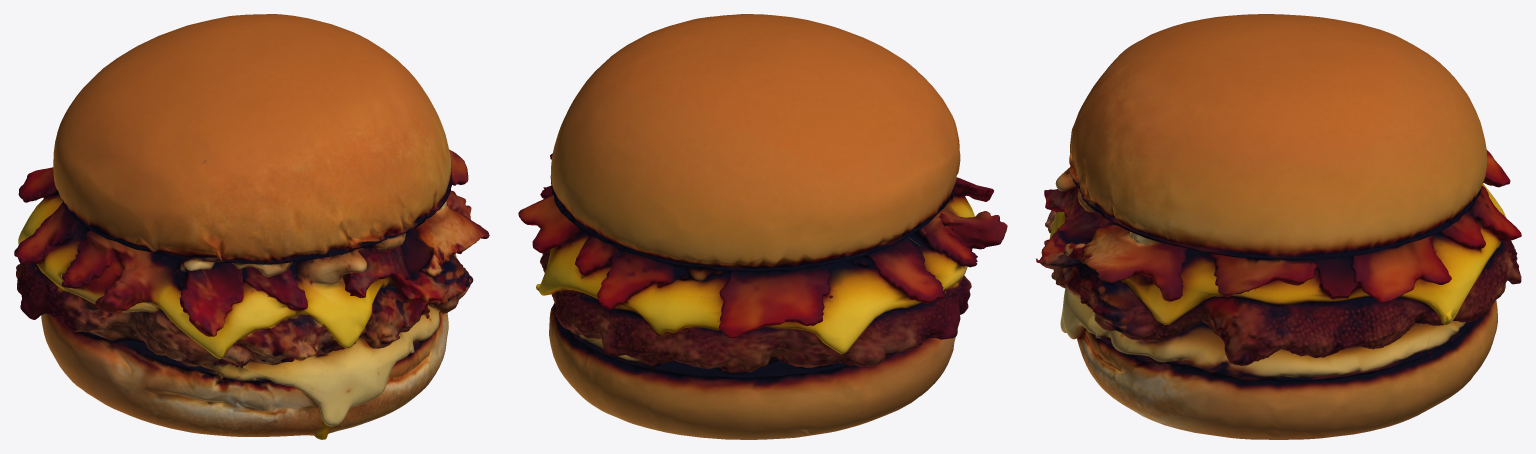
The model's file is cheese-bacon-burger.glb.
3 renders of one model, left to right at view 1: azimuth 30°, elevation 25°; view 2: azimuth 150°, elevation 25°; view 3: azimuth 270°, elevation 25°, orthographic. The views are drawn at different scales.
Visible parts, largest first — view 1: world; view 2: world; view 3: world.
Part boxes in pixels (bbox=[...]): world: bbox=[14, 14, 489, 439]; world: bbox=[518, 14, 1007, 439]; world: bbox=[1036, 14, 1521, 439].
Size of the model in its own units: 0.13 by 0.0965 by 0.1271.
1 material, 1 textured.
